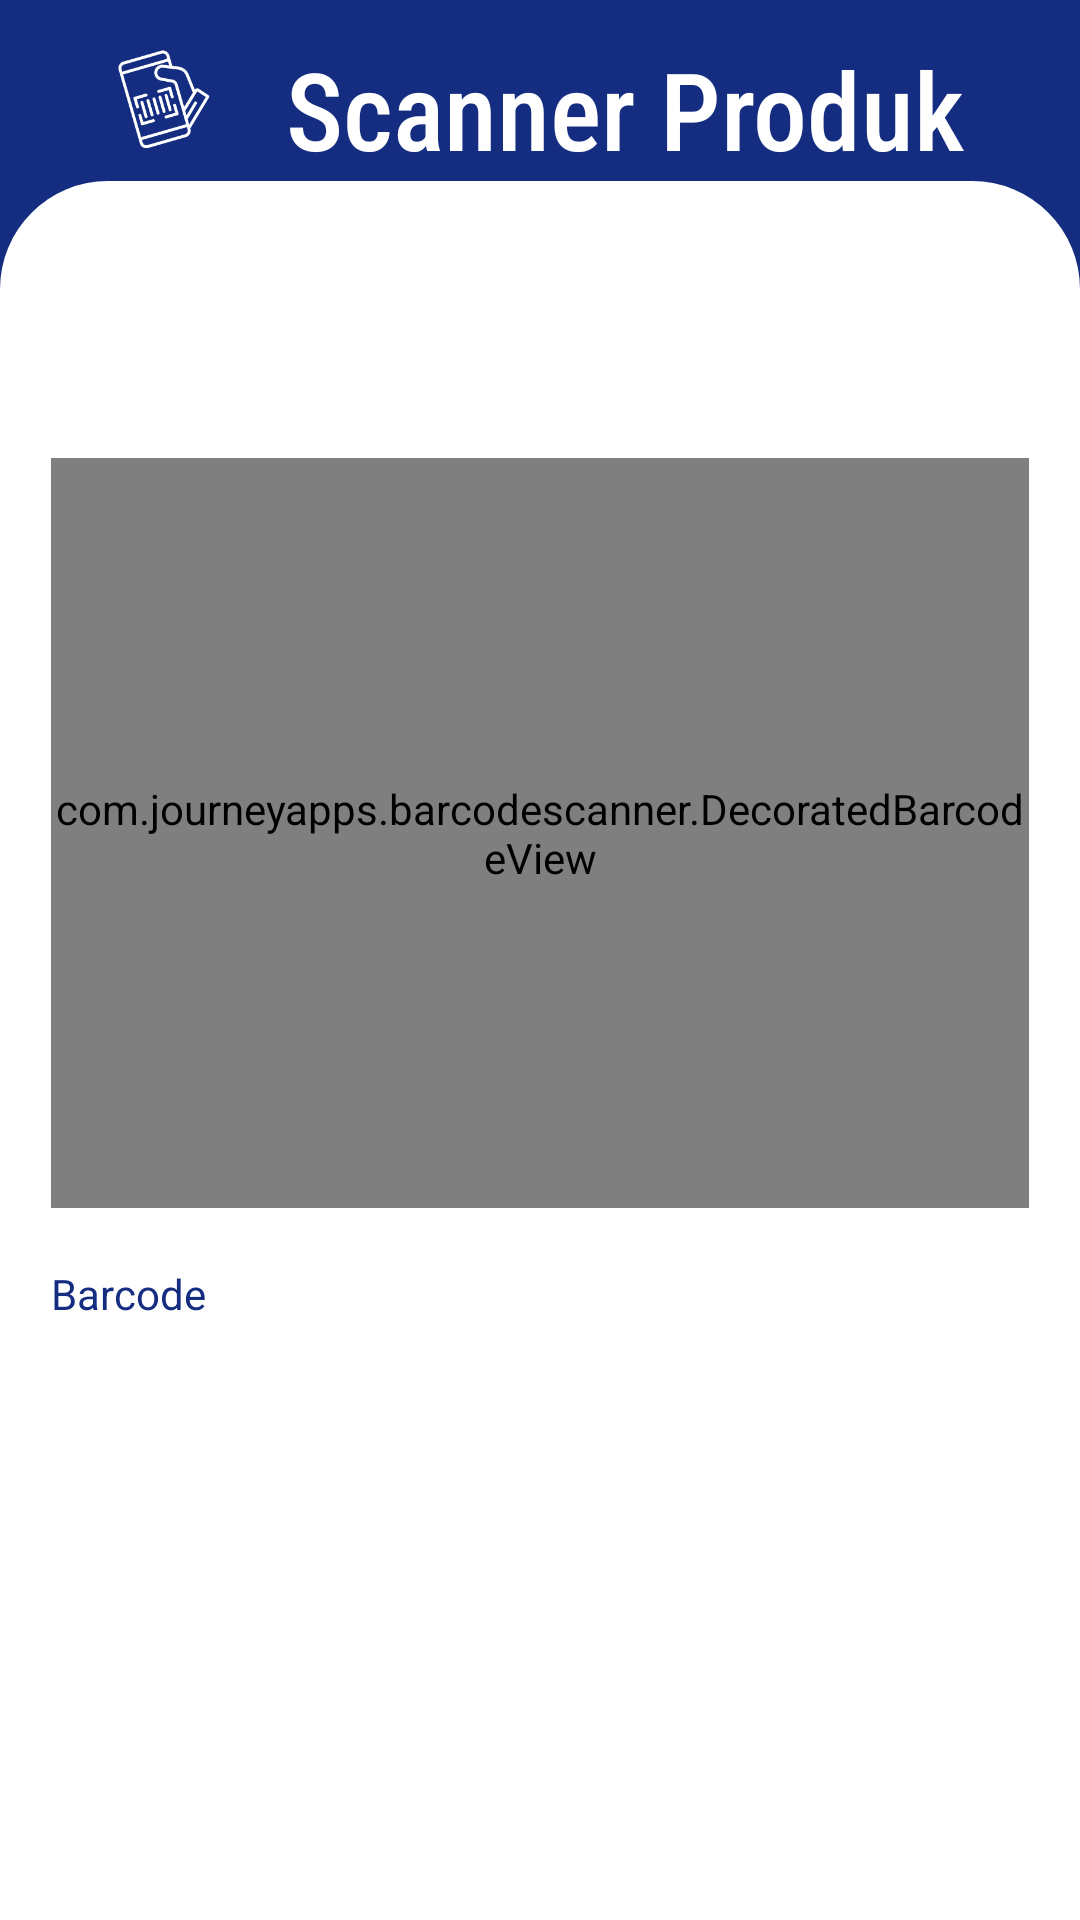

Where to tap for icons on this 1080*1920 app screen, as (x=x, y=y):
barcode scanner: (x=164, y=99)
